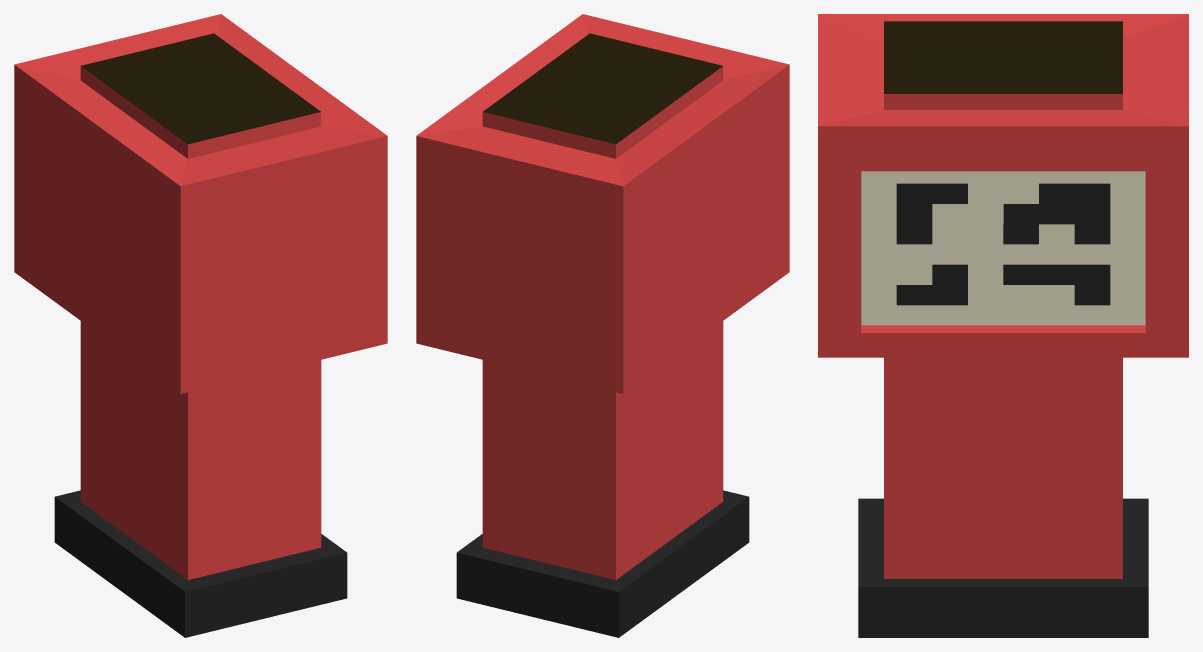
Rendered from gaspump.fbx.
3 renders of one model, left to right at view 1: azimuth 30°, elevation 25°; view 2: azimuth 150°, elevation 25°; view 3: azimuth 270°, elevation 25°, orthographic. The views are drawn at different scales.
Visible parts, largest first — view 1: Cube; view 2: Cube; view 3: Cube.
Boxes of the visible parts, <box> form: Cube: <box>14,14,387,637</box>; Cube: <box>416,14,789,637</box>; Cube: <box>818,14,1188,637</box>.
Bounding box in the file's own units: 72.98 × 162 × 102.
